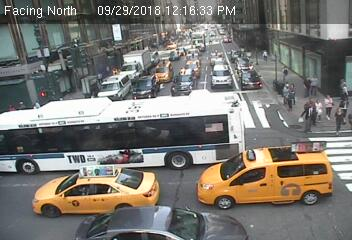car: (1, 99, 243, 167), (198, 142, 334, 209), (74, 207, 249, 239), (32, 170, 160, 209), (95, 75, 129, 102), (117, 52, 153, 77), (170, 69, 197, 96), (133, 77, 160, 100), (209, 63, 230, 89), (154, 63, 174, 84), (181, 58, 200, 79), (189, 31, 207, 50), (242, 70, 260, 89), (235, 58, 254, 72), (208, 49, 227, 61), (185, 49, 202, 57), (168, 51, 177, 62), (222, 36, 233, 43), (176, 47, 183, 56)
